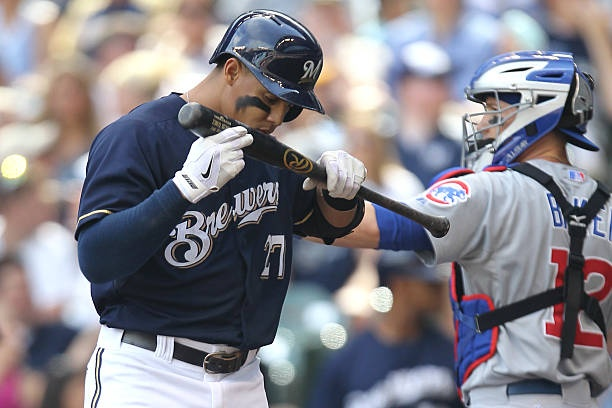bita: (181, 101, 450, 231)
